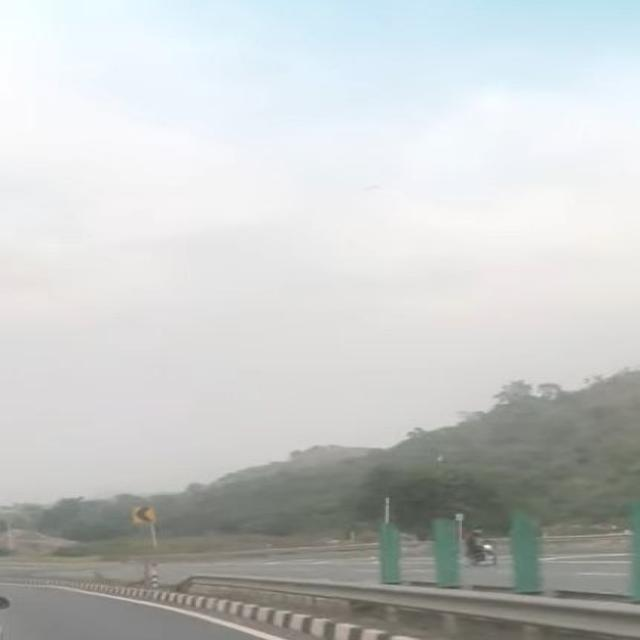chevron_left: (119, 496, 169, 536)
